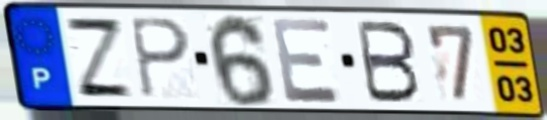6: (203, 10, 279, 109)
7: (422, 22, 477, 104)
B: (354, 18, 423, 106)
E: (267, 16, 345, 105)
P: (126, 15, 195, 101)
Z: (60, 14, 138, 101)
